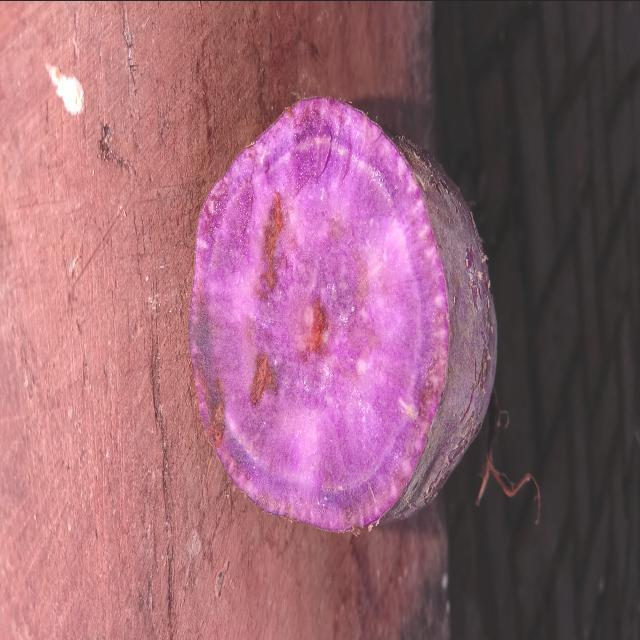Sick Sweet Potato_Tuber Rot: (190, 98, 449, 529)
